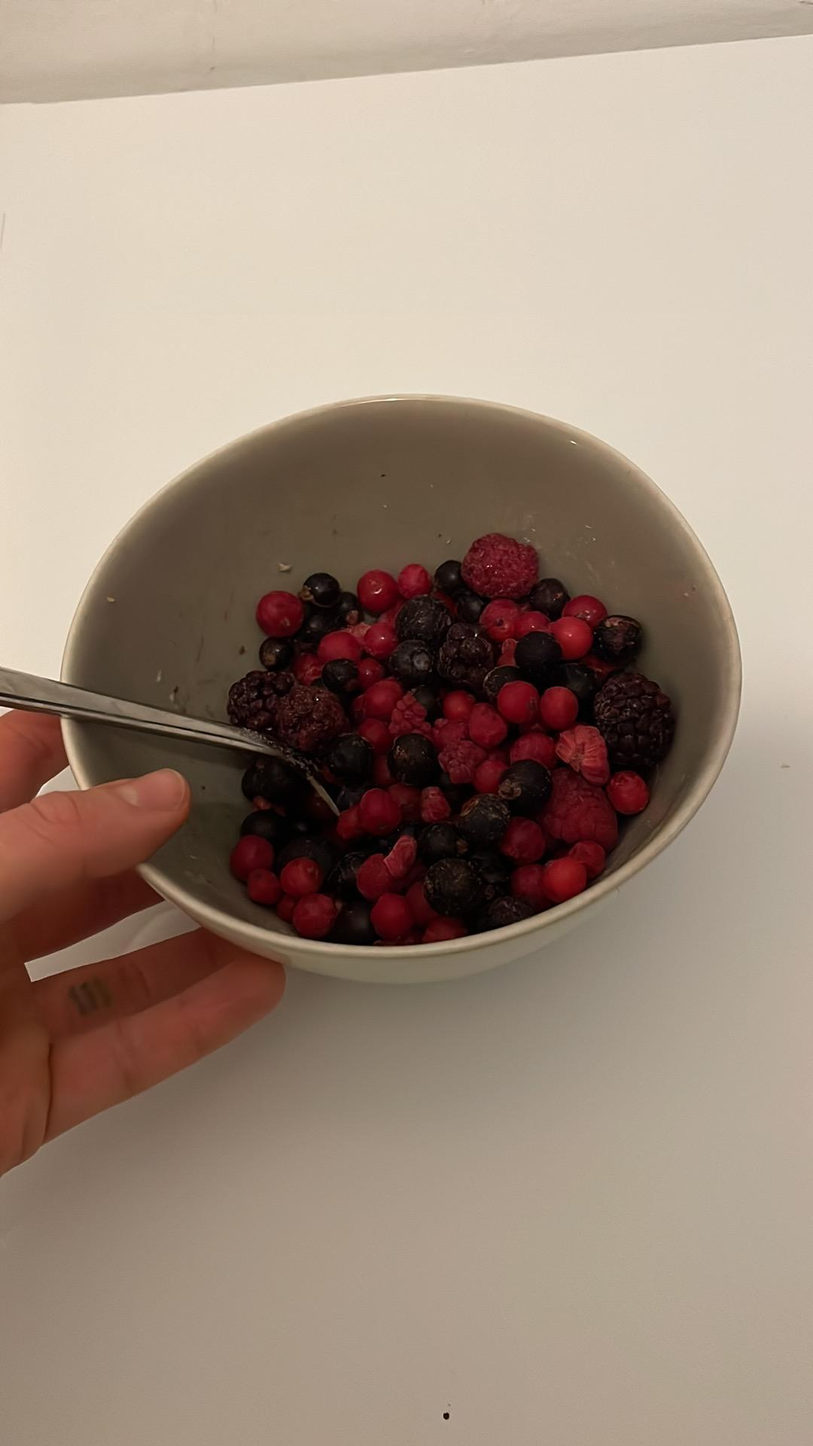blackberry: (592, 676, 670, 772), (274, 684, 341, 752), (228, 673, 296, 732)
blueberry: (425, 864, 503, 918), (453, 793, 510, 843), (496, 760, 551, 811), (594, 612, 644, 663), (396, 596, 448, 642), (515, 634, 563, 682), (391, 640, 437, 686), (530, 578, 565, 619)
raspberry: (543, 768, 620, 848), (460, 531, 544, 597), (556, 723, 604, 775), (387, 691, 430, 739)
